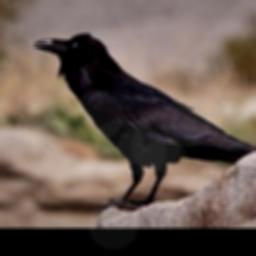Crow: (31, 27, 256, 207)
